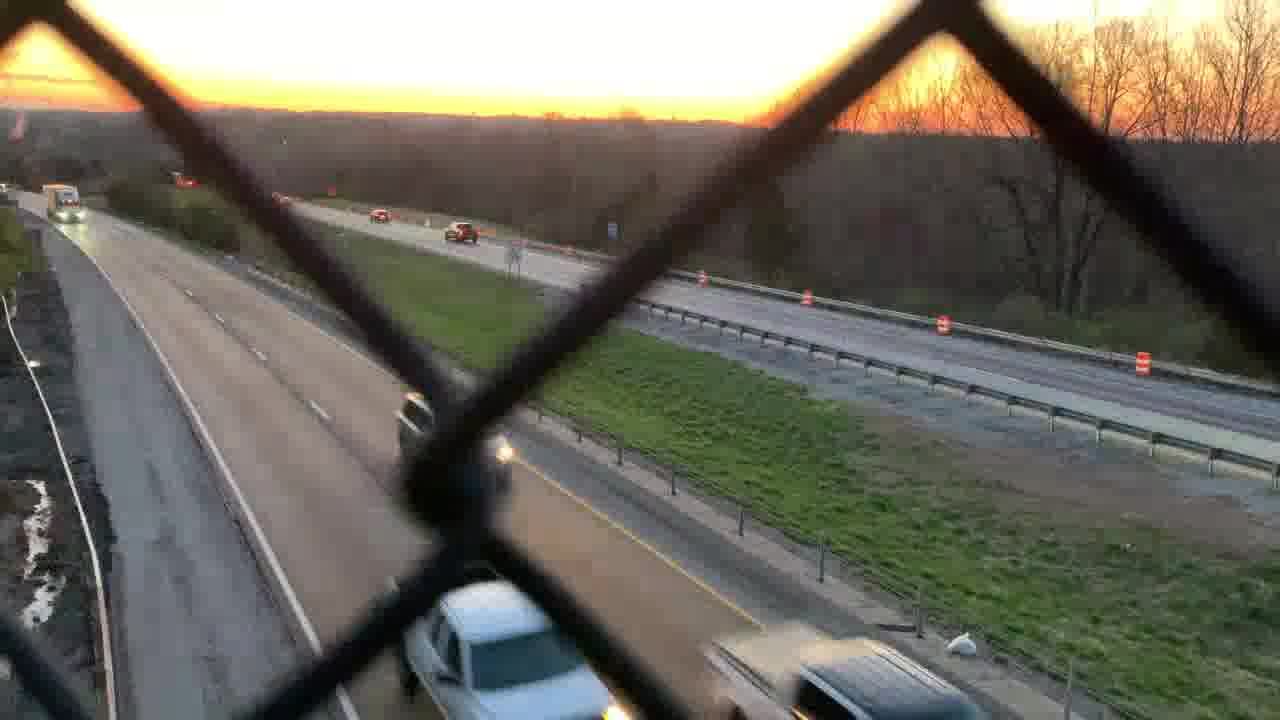heavyTruck: (37, 181, 89, 228)
largeCar: (395, 385, 521, 498)
lightTruck: (381, 562, 632, 720), (699, 617, 989, 720), (444, 217, 476, 241)
vehicle: (361, 209, 395, 228)
